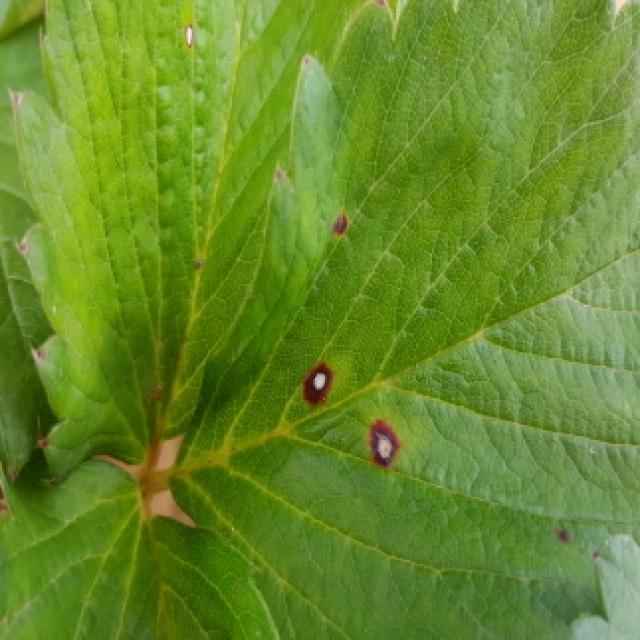Leaf Spot: (165, 0, 640, 640), (6, 0, 365, 488)
